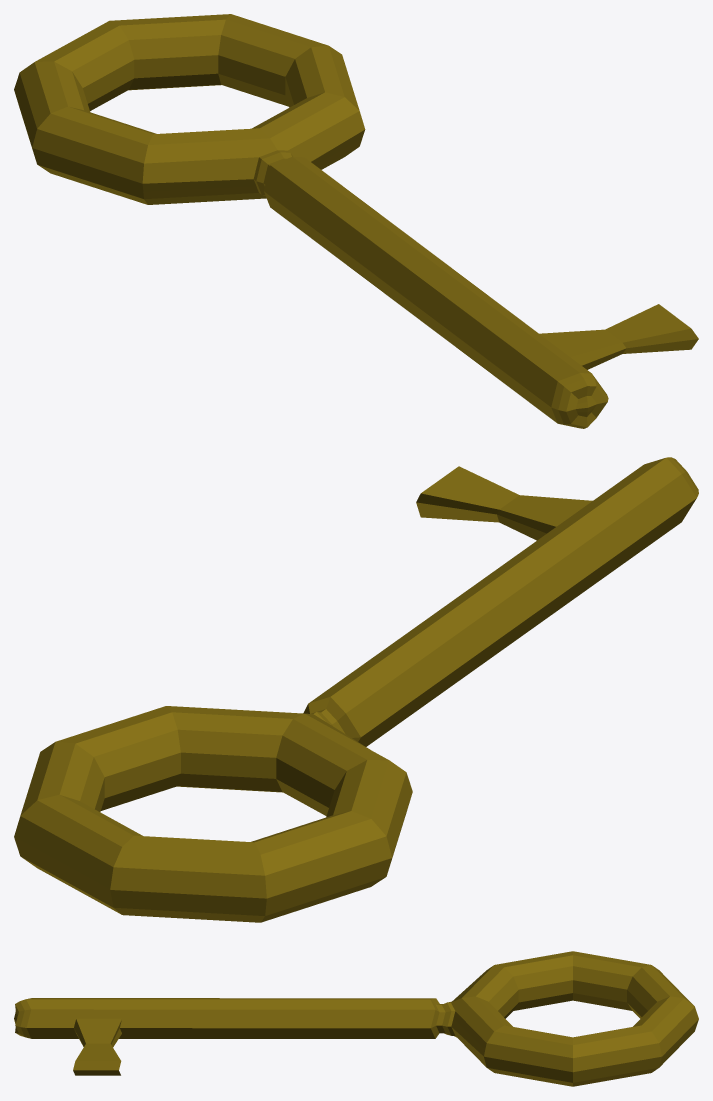
The model's file is Key.fbx.
3 renders of one model, top to bottom at view 1: azimuth 30°, elevation 25°; view 2: azimuth 150°, elevation 25°; view 3: azimuth 270°, elevation 25°, orthographic. The views are drawn at different scales.
Visible parts, largest first — view 1: KeyUsable; view 2: KeyUsable; view 3: KeyUsable.
Part boxes in pixels (box(x1,y1,x2,y2)): KeyUsable: box(14, 14, 698, 428); KeyUsable: box(14, 457, 698, 922); KeyUsable: box(14, 951, 698, 1086).
Bounding box in the file's own units: 250 × 49.49 × 679.
